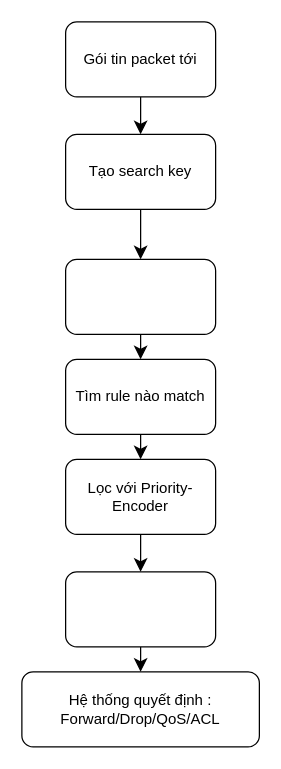
Some shapes in this 281 by 769 pixel diagram are drawn without their labels. The box of each missing label's shape, as (x1, y1, x2, y2) in pixels:
So sánh với Rule-Table trong Sram-based-TRAM: (64, 258, 216, 334)
Xuất Ruld-ID: (64, 571, 216, 647)
